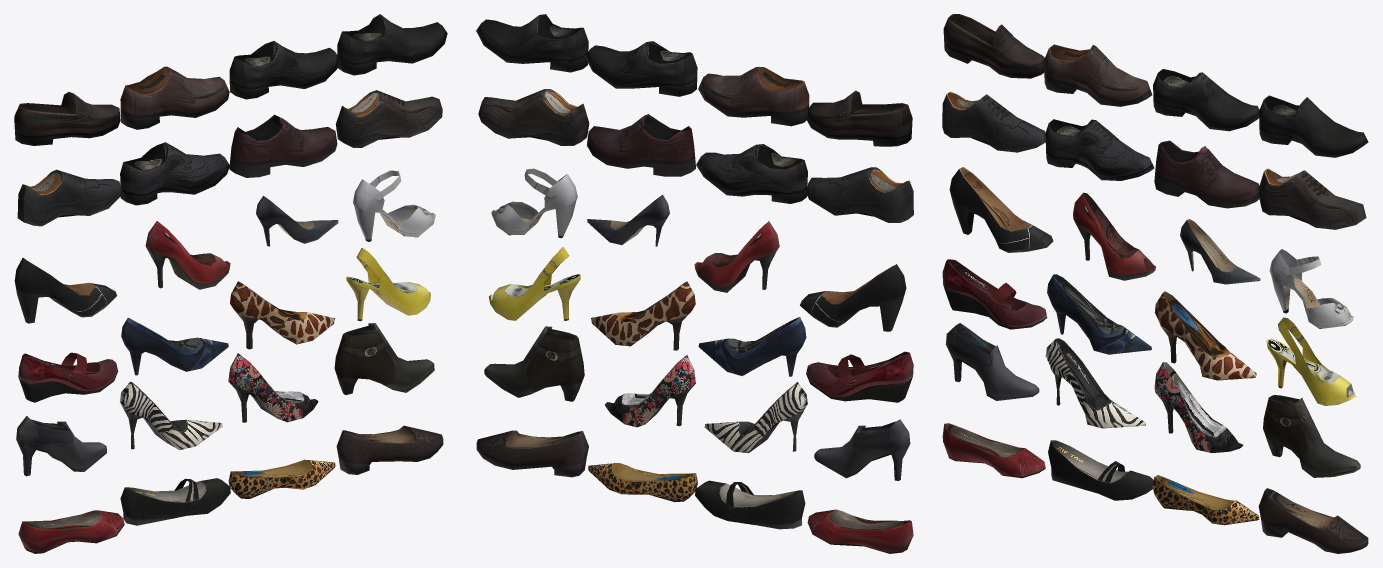
Rendered from shoes-1.FBX.
3 renders of one model, left to right at view 1: azimuth 30°, elevation 25°; view 2: azimuth 150°, elevation 25°; view 3: azimuth 330°, elevation 25°, orthographic. The views are drawn at different scales.
Parts seen in each view (by area): view 1: Object007, Object012, Object011, Object009, Object008, Object010, Object022, Object013, Object006, Object018, Object027, Object05 (+12 smaller); view 2: Object011, Object007, Object012, Object010, Object009, Object022, Object008, Object013, Object006, Object018, Object05, Object027 (+12 smaller); view 3: Object011, Object012, Object007, Object022, Object009, Object010, Object008, Object006, Object013, Object014, Object018, Object05 (+12 smaller).
Boxes of the visible parts, <box> form: Object007: <box>120,66,229,129</box>; Object012: <box>120,142,229,205</box>; Object011: <box>229,114,337,177</box>; Object009: <box>337,14,447,75</box>; Object008: <box>229,41,339,99</box>; Object010: <box>335,90,442,147</box>; Object022: <box>334,323,434,394</box>; Object013: <box>17,169,121,226</box>; Object006: <box>14,92,120,145</box>; Object018: <box>18,352,118,402</box>; Object027: <box>120,478,230,525</box>; Object05: <box>336,425,443,474</box>; Object011: <box>587,114,695,176</box>; Object007: <box>698,66,809,126</box>; Object012: <box>696,144,807,203</box>; Object010: <box>478,89,589,145</box>; Object009: <box>476,14,588,72</box>; Object022: <box>484,326,584,401</box>; Object008: <box>585,41,697,96</box>; Object013: <box>806,167,913,222</box>; Object006: <box>807,90,912,146</box>; Object018: <box>806,351,913,402</box>; Object05: <box>476,430,588,477</box>; Object027: <box>695,480,805,529</box>; Object011: <box>1154,140,1259,208</box>; Object012: <box>1045,119,1154,180</box>; Object007: <box>1044,44,1152,106</box>; Object022: <box>1263,395,1360,477</box>; Object009: <box>1259,95,1368,157</box>; Object010: <box>1258,168,1366,229</box>; Object008: <box>1153,69,1259,131</box>; Object006: <box>943,14,1044,78</box>; Object013: <box>942,91,1045,152</box>; Object014: <box>949,167,1053,252</box>; Object018: <box>942,259,1047,329</box>; Object05: <box>1258,488,1368,553</box>.
Size of the model in its own units: 62.37 by 62.49 by 6.87.
